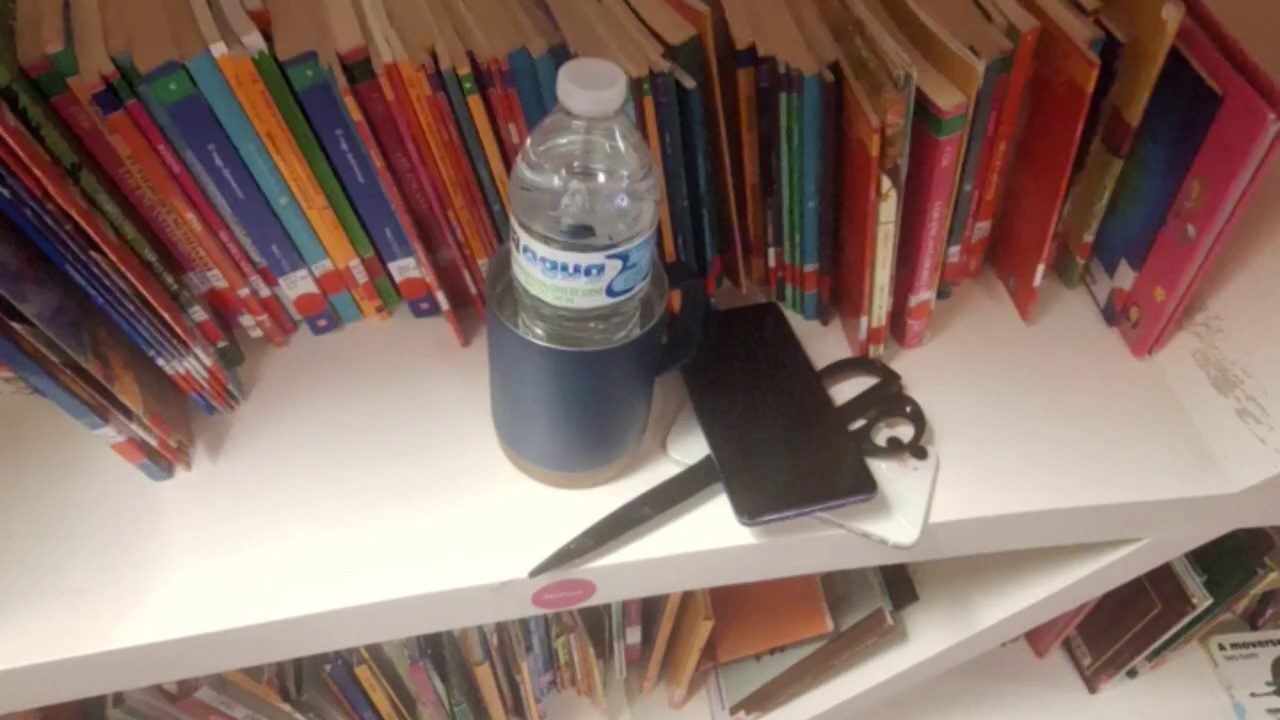botella: (486, 57, 670, 489)
